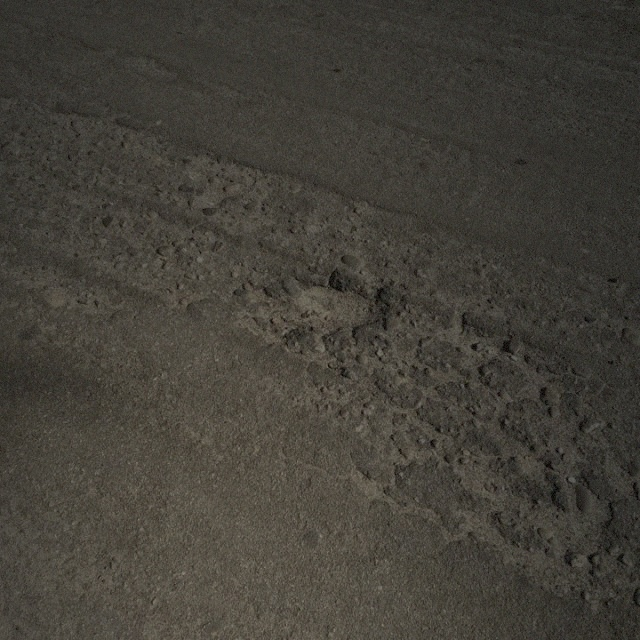pothole: (287, 276, 389, 326)
